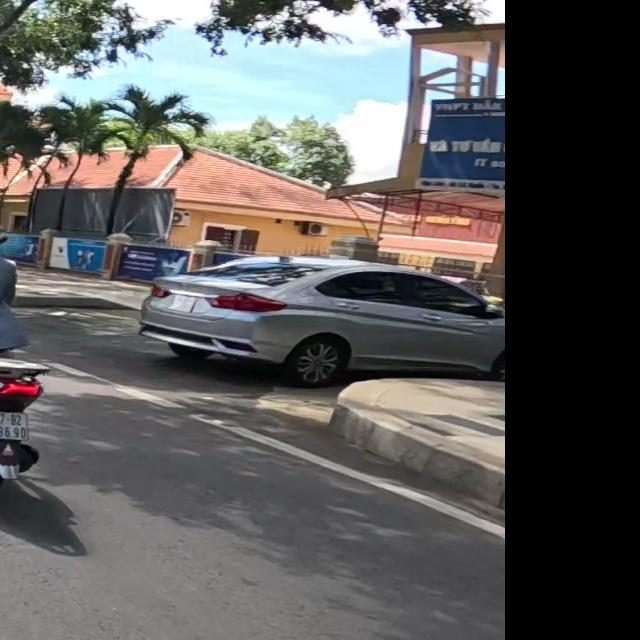license-plate: (0, 410, 30, 442)
